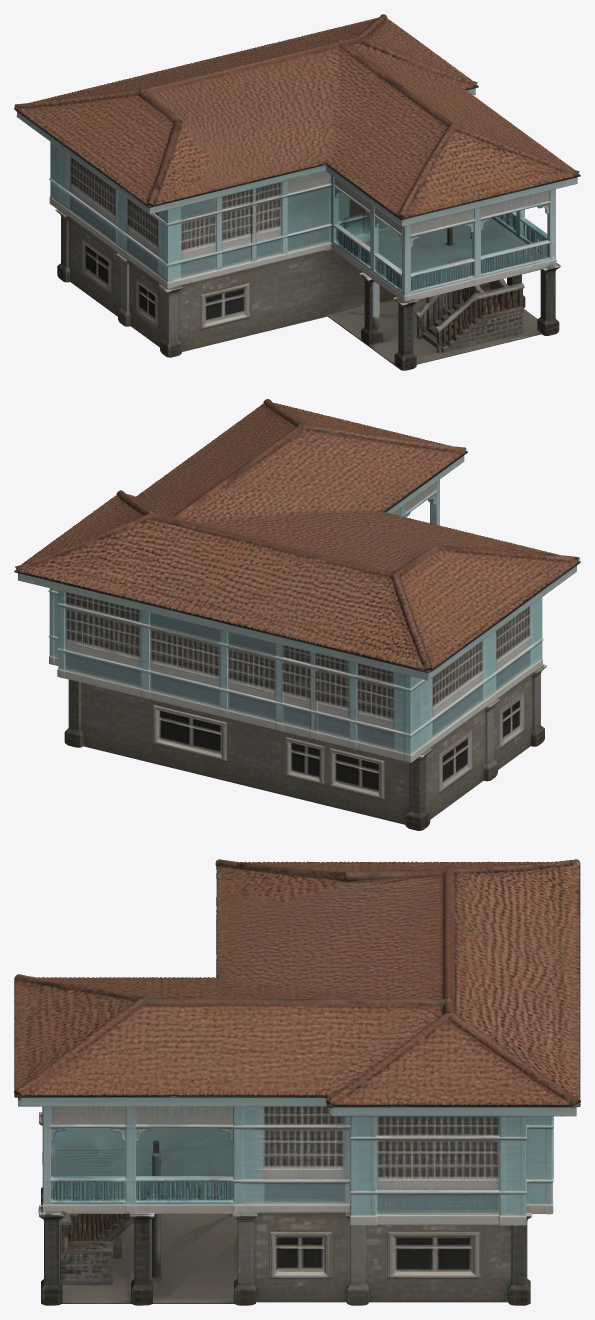
File: arrastia.glb
3 renders of one model, top to bottom at view 1: azimuth 30°, elevation 25°; view 2: azimuth 150°, elevation 25°; view 3: azimuth 270°, elevation 25°, orthographic. The views are drawn at different scales.
Size of the model in its own units: 0.8339 by 0.4248 by 0.8219.
1 material, 1 textured.
